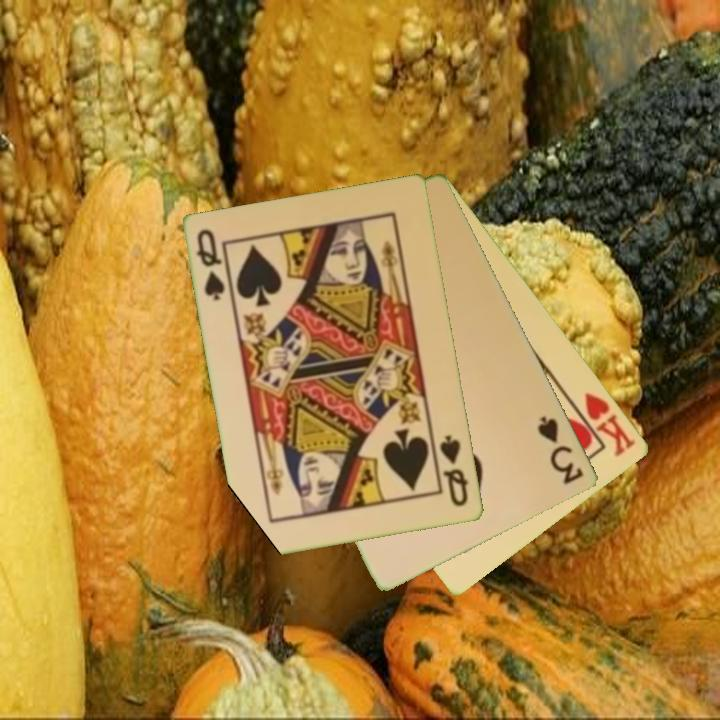3s: (534, 413, 587, 488)
Kh: (568, 389, 640, 460)
Qs: (193, 226, 229, 304), (437, 432, 472, 510)
